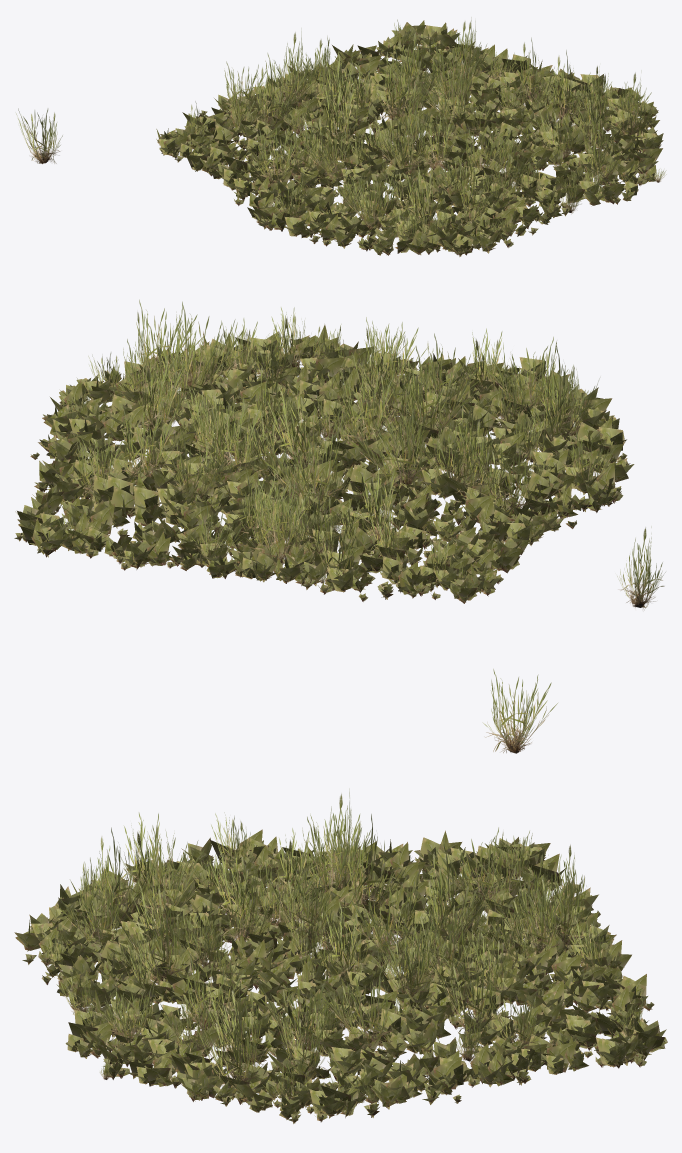
Rendered from veg_grass.glb.
The picture shows the model from 3 angles, top to bottom: view 1: azimuth 30°, elevation 25°; view 2: azimuth 150°, elevation 25°; view 3: azimuth 270°, elevation 25°; orthographic projection. The views are drawn at different scales.
Parts seen in each view (by area): view 1: Forest001, rostlinka_7c_scater, rostlinka_07c; view 2: Forest001, rostlinka_7c_scater, rostlinka_07c; view 3: Forest001, rostlinka_7c_scater, rostlinka_07c.
Part boxes in pixels (x1,y1,x2,y2): Forest001: (156,20,663,256); rostlinka_7c_scater: (171,17,666,240); rostlinka_07c: (16,108,62,163); Forest001: (14,325,634,603); rostlinka_7c_scater: (58,299,616,583); rostlinka_07c: (617,526,665,609); Forest001: (14,829,667,1123); rostlinka_7c_scater: (45,789,646,1103); rostlinka_07c: (482,669,557,753).
Size of the model in its own units: 3.6 by 0.7453 by 2.75.
2 materials, 2 textured.
